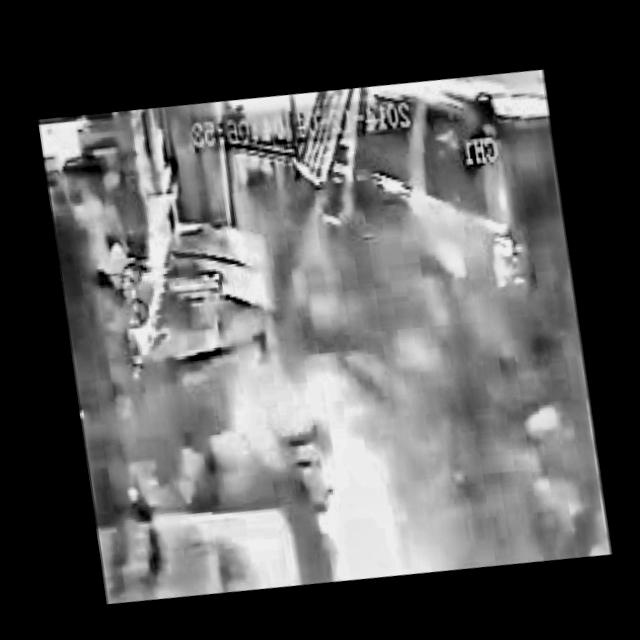burglary: (213, 49, 593, 438)
